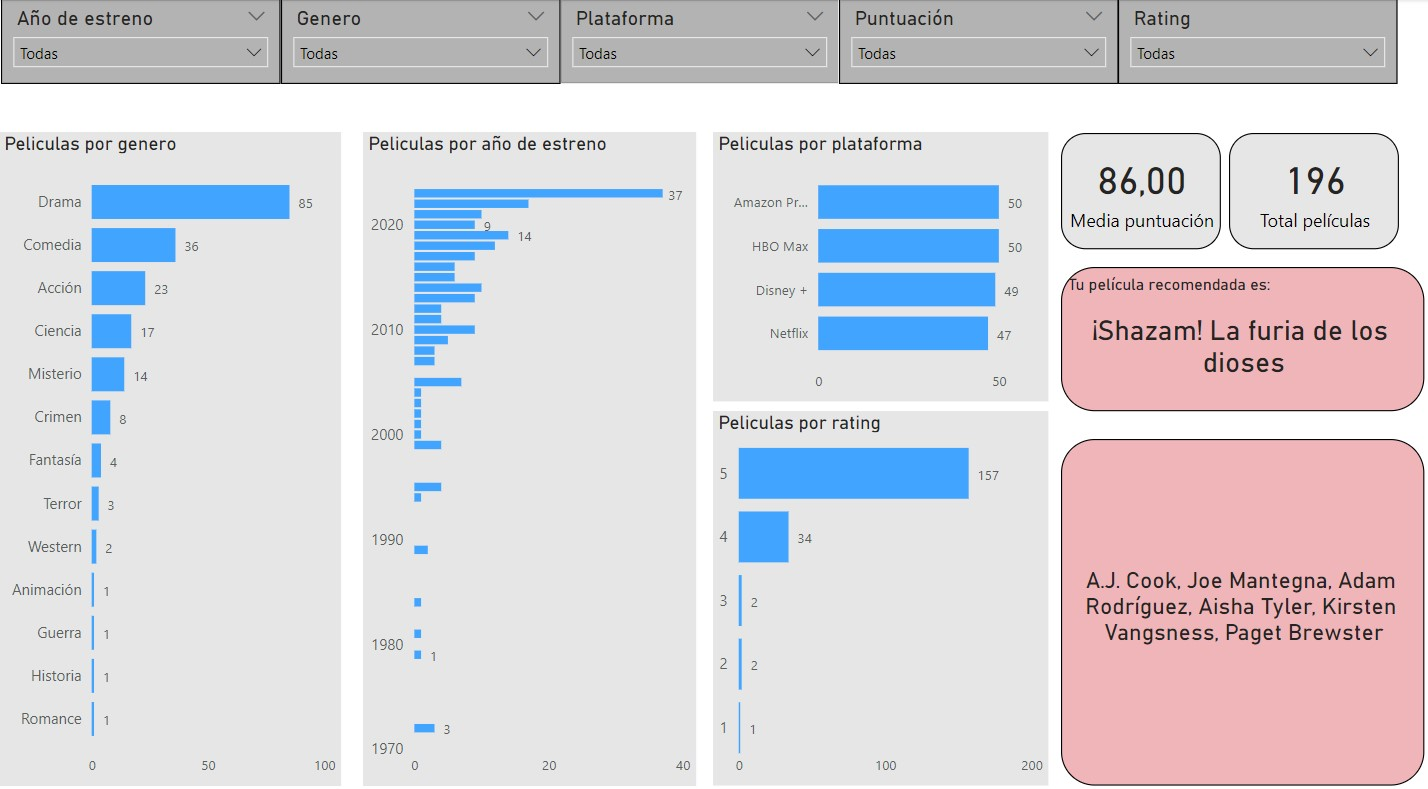

This screenshot's page, from the dashboard's own definition file:
{"tool":"powerbi","page":{"name":"Página 1","canvas":[1280,720],"ordinal":0},"visuals":[{"type":"slicer","fields":{"Values":["Consulta2.Column1.Año"]},"box":[1.7,0,250,76],"z":0},{"type":"slicer","fields":{"Values":["Consulta2.Column1.Plataforma"]},"box":[501.8,0,249.5,76],"z":1000},{"type":"slicer","fields":{"Values":["Consulta2.Column1.Genero"]},"box":[252.2,0,249.5,76],"z":2000},{"type":"slicer","fields":{"Values":["Consulta2.Column1.Rating"]},"box":[751.3,0,249.5,76],"z":3000},{"type":"card","fields":{"Values":["Consulta2.Column1.Titulo"]},"box":[1099.9,119.6,152.3,103.6],"z":4000},{"type":"barChart","fields":{"Category":["Consulta2.Column1.Genero"],"Y":["Consulta2.Column1.Titulo"]},"box":[0,118.7,306.4,585.4],"z":5000},{"type":"barChart","fields":{"Y":["Consulta2.Column1.Titulo"],"Category":["Consulta2.Column1.Año"]},"box":[325.9,118.7,298.5,585.4],"z":6000},{"type":"barChart","fields":{"Y":["Consulta2.Column1.Titulo"],"Category":["Consulta2.Column1.Plataforma"]},"box":[638.6,119,299.6,241.5],"z":7000},{"type":"barChart","fields":{"Y":["Consulta2.Column1.Titulo"],"Category":["Consulta2.Rating.Estrellas"]},"box":[638.6,368.5,299.6,335.4],"z":8000},{"type":"slicer","fields":{"Values":["Consulta2.Rating.Estrellas"]},"box":[1000.8,0,249.5,76],"z":9000},{"type":"card","title":"Tu película recomendada es:","fields":{"Values":["Consulta2.Column1.Titulo"]},"box":[949.9,239.7,324.7,128.8],"z":10000},{"type":"card","title":"Tu película recomendada es:","fields":{"Values":["Consulta2.Column1.Actores"]},"box":[949.9,393.5,324.7,310.4],"z":11000},{"type":"card","fields":{"Values":["Consulta2.Promedio rating"]},"box":[950.2,119.6,142.6,103.6],"z":12000}]}

Visuals, with their boxes in screenshot pixels (x1, y1, x2, y2), scaled from the page's 1280x720 canvas onto the 1428x789 screenshot:
slicer - Consulta2.Column1.Año: {"x1": 2, "y1": 0, "x2": 281, "y2": 83}
slicer - Consulta2.Column1.Plataforma: {"x1": 560, "y1": 0, "x2": 838, "y2": 83}
slicer - Consulta2.Column1.Genero: {"x1": 281, "y1": 0, "x2": 560, "y2": 83}
slicer - Consulta2.Column1.Rating: {"x1": 838, "y1": 0, "x2": 1117, "y2": 83}
card - Consulta2.Column1.Titulo: {"x1": 1227, "y1": 131, "x2": 1397, "y2": 245}
barChart - Consulta2.Column1.Genero x Consulta2.Column1.Titulo: {"x1": 0, "y1": 130, "x2": 342, "y2": 772}
barChart - Consulta2.Column1.Titulo x Consulta2.Column1.Año: {"x1": 364, "y1": 130, "x2": 697, "y2": 772}
barChart - Consulta2.Column1.Titulo x Consulta2.Column1.Plataforma: {"x1": 712, "y1": 130, "x2": 1047, "y2": 395}
barChart - Consulta2.Column1.Titulo x Consulta2.Rating.Estrellas: {"x1": 712, "y1": 404, "x2": 1047, "y2": 771}
slicer - Consulta2.Rating.Estrellas: {"x1": 1117, "y1": 0, "x2": 1395, "y2": 83}
"Tu película recomendada es:" card: {"x1": 1060, "y1": 263, "x2": 1422, "y2": 404}
"Tu película recomendada es:" card: {"x1": 1060, "y1": 431, "x2": 1422, "y2": 771}
card - Consulta2.Promedio rating: {"x1": 1060, "y1": 131, "x2": 1219, "y2": 245}
